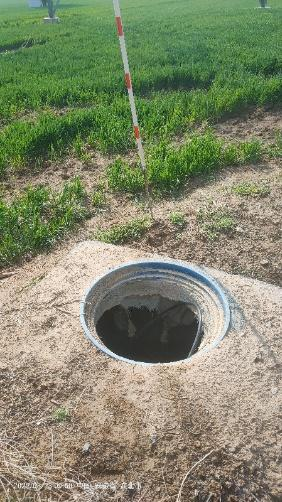wellcover: (78, 249, 231, 364)
